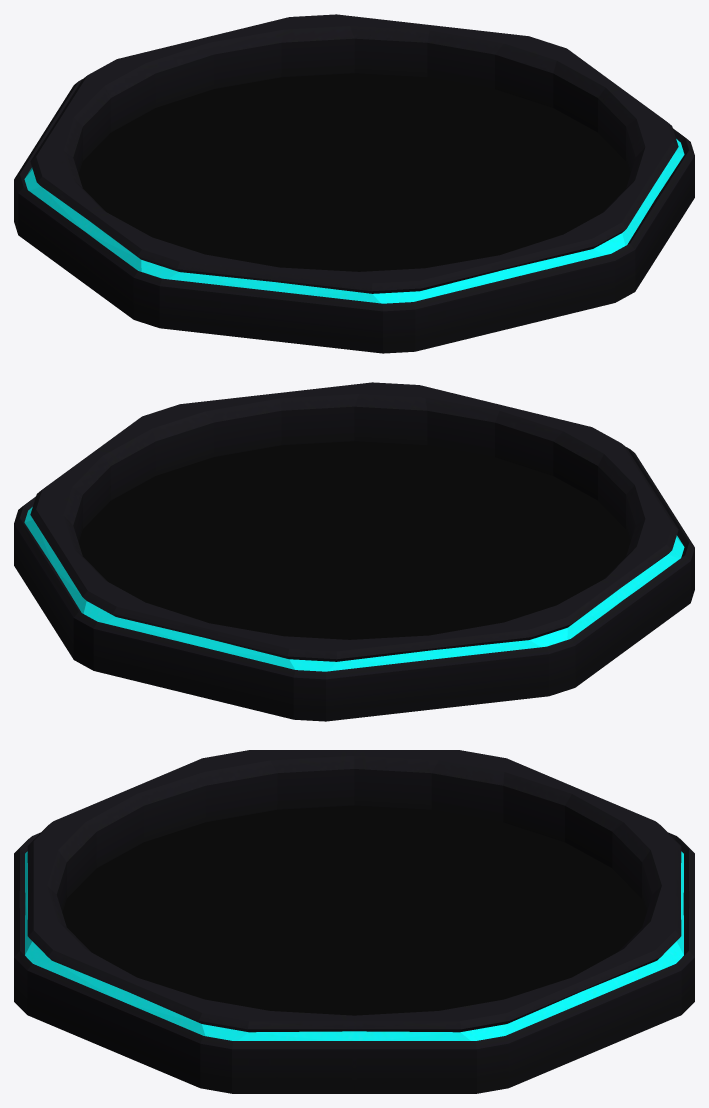
3 views of the same model, one above another, from view 1: azimuth 30°, elevation 25°; view 2: azimuth 150°, elevation 25°; view 3: azimuth 270°, elevation 25° (orthographic). The views are drawn at different scales.
Parts seen in each view (by area): view 1: Base_2_Object; view 2: Base_2_Object; view 3: Base_2_Object.
Part boxes in pixels (box(x1,y1,x2,y2)): Base_2_Object: box(14, 14, 694, 353); Base_2_Object: box(14, 382, 694, 721); Base_2_Object: box(14, 750, 694, 1093).
Bounding box in the file's own units: 1.39 × 0.1443 × 1.39.
1 material, 1 textured.
